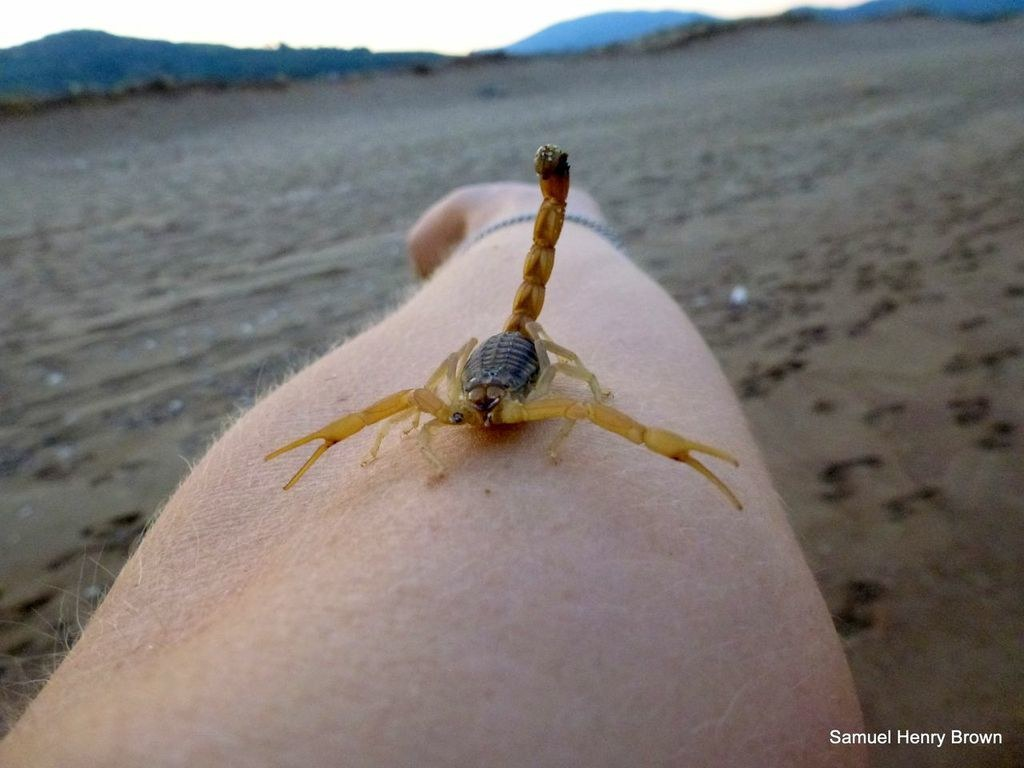insect: (263, 143, 746, 516), (263, 144, 744, 515)
